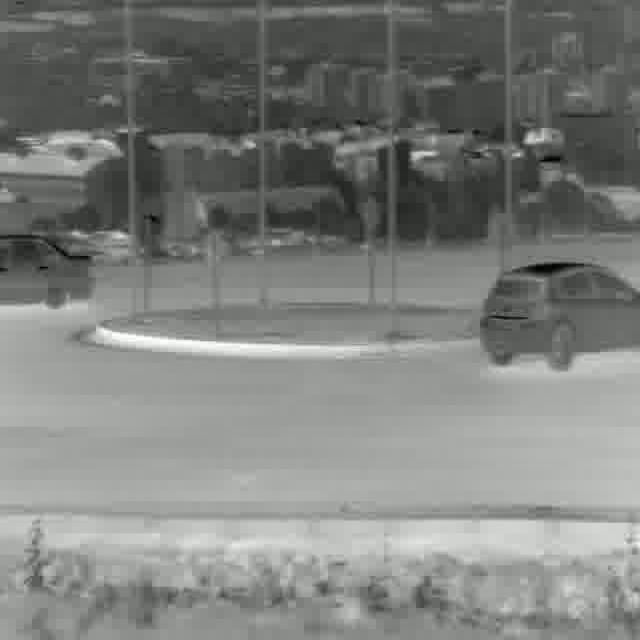Car: (480, 257, 640, 371), (0, 232, 95, 307)
